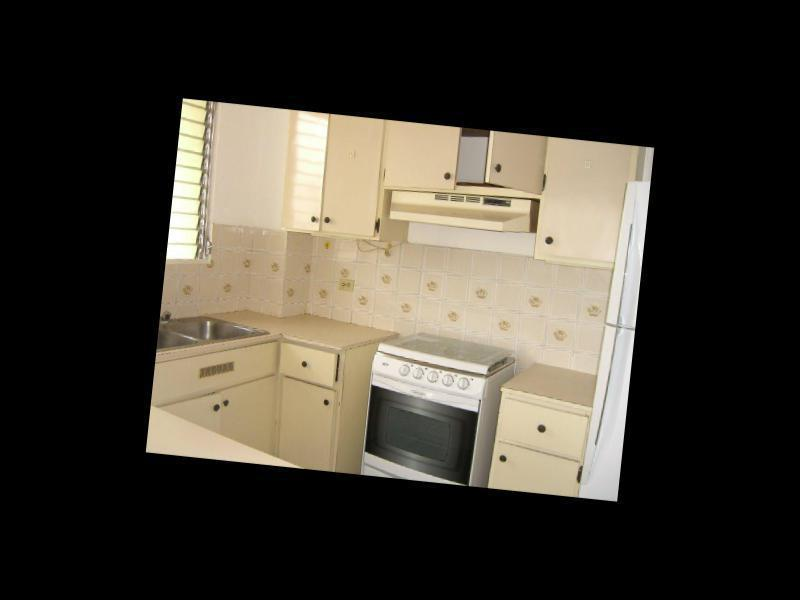Electrodomestico: (583, 178, 650, 500), (359, 338, 490, 483)
Lavaplatos: (160, 311, 272, 366)
